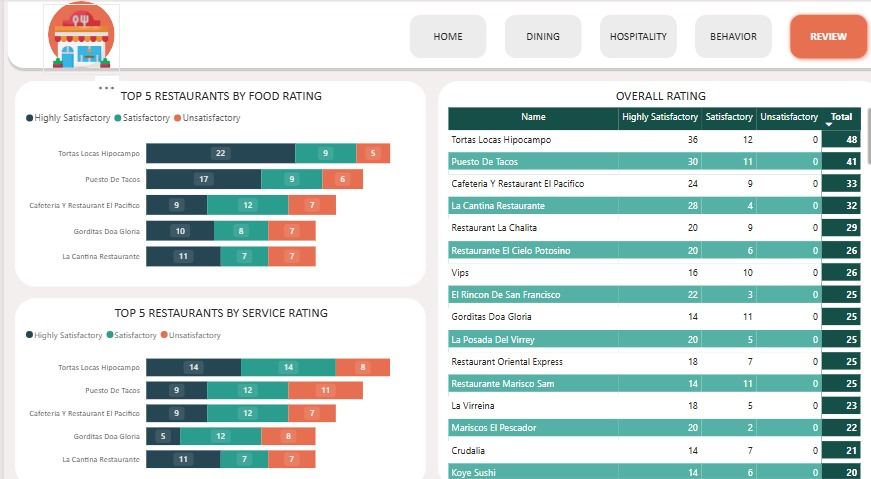

The dashboard page shown, as its layout file describes it:
{"tool":"powerbi","page":{"name":"REVIEW","canvas":[1280,720],"ordinal":4},"visuals":[{"type":"barChart","title":"TOP 5 RESTAURANTS BY SERVICE RATING","fields":{"Category":["restaurants.Name"],"Y":["CountNonNull(ratings.Consumer_ID)"],"Series":["ratings.Service_Rating_Category"]},"box":[16,432,592,272],"z":0},{"type":"barChart","title":"TOP 5 RESTAURANTS BY FOOD RATING","fields":{"Category":["restaurants.Name"],"Y":["CountNonNull(ratings.Consumer_ID)"],"Series":["ratings.Food_Rating_Category"]},"box":[15.9,119.8,592.3,296.2],"z":1000},{"type":"pivotTable","title":"OVERALL RATING","fields":{"Rows":["restaurants.Name"],"Columns":["ratings.Overall_Rating_Category"],"Values":["Sum(ratings.Overall_Rating)"]},"box":[625.3,119.8,639.6,586.3],"z":2000},{"type":"shape","box":[0,0,1280.5,105.9],"z":3000},{"type":"pageNavigator","box":[576,15.5,677.6,79.1],"z":4000},{"type":"shape","box":[63.7,4.4,96.2,96.7],"z":5000},{"type":"image","box":[56,9.3,111.5,101.1],"z":6000}]}

Visuals, with their boxes in screenshot pixels (x1, y1, x2, y2), scaled from the page's 1280x720 canvas onto the 871x479 screenshot:
"TOP 5 RESTAURANTS BY SERVICE RATING" barChart: region(11, 287, 414, 468)
"TOP 5 RESTAURANTS BY FOOD RATING" barChart: region(11, 80, 414, 277)
"OVERALL RATING" pivotTable: region(425, 80, 861, 470)
shape: region(0, 0, 870, 70)
pageNavigator: region(392, 10, 853, 63)
shape: region(43, 3, 109, 67)
image: region(38, 6, 114, 73)
